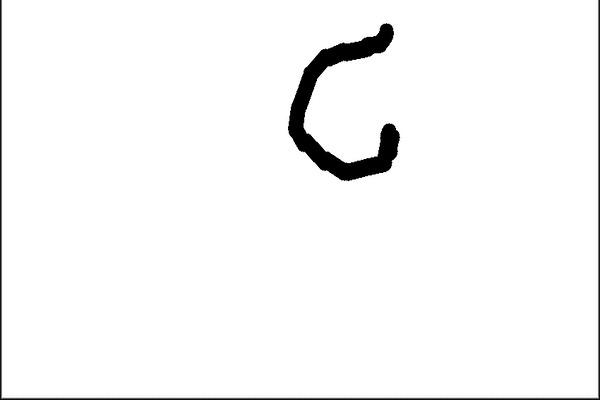C: (283, 19, 410, 185)
